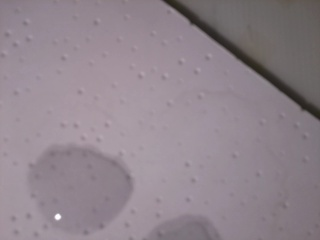Water_detected: (49, 152, 113, 213)
